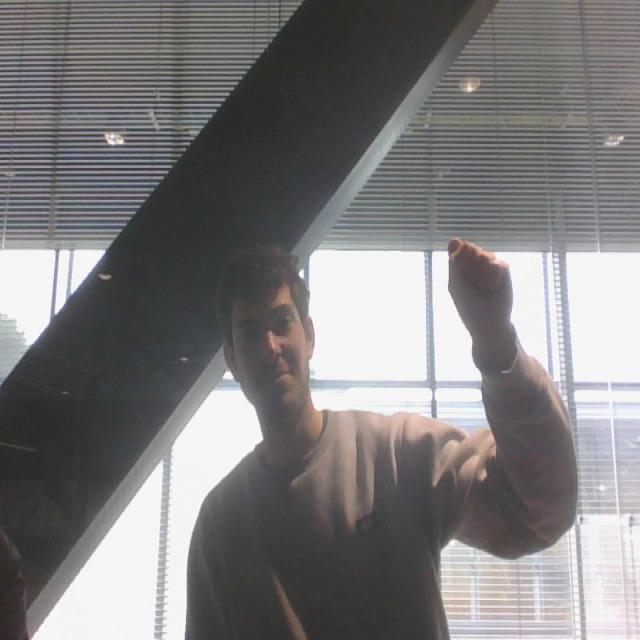stop: (441, 229, 519, 343)
